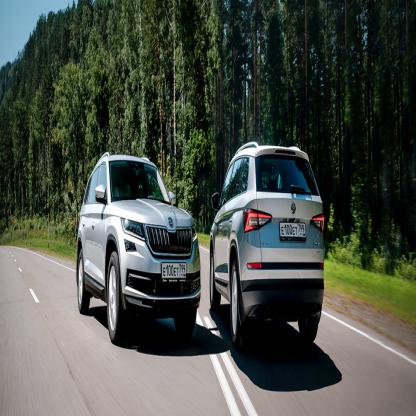car: (210, 138, 328, 348), (76, 143, 201, 341)
